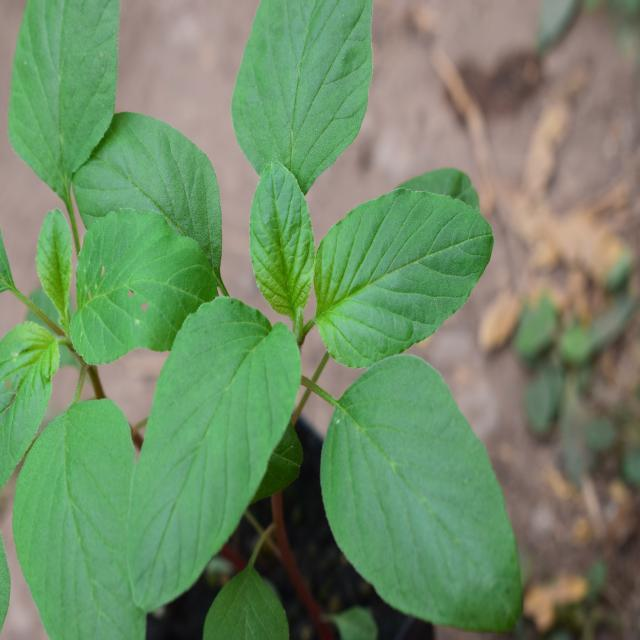pigweed: (135, 2, 520, 601)
